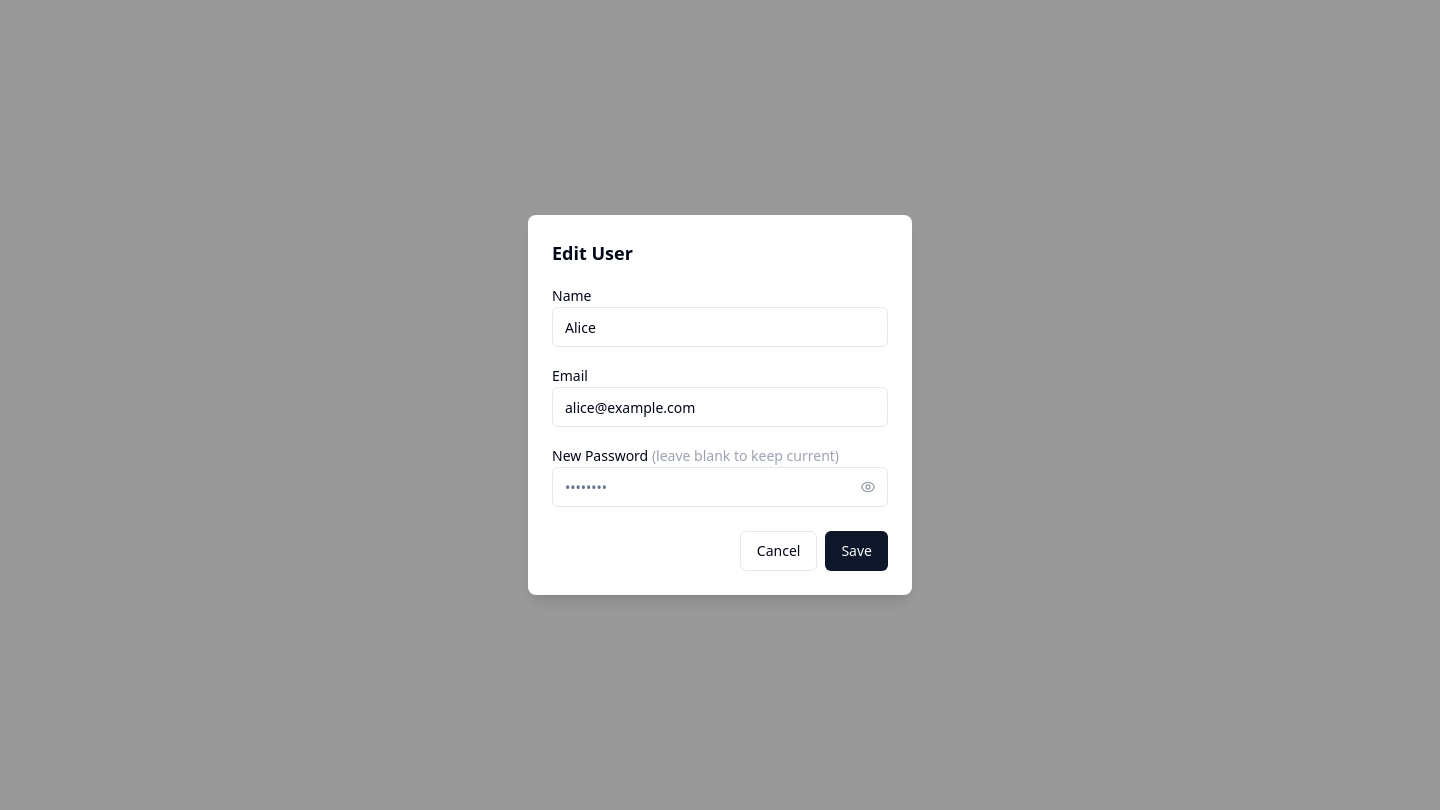
Test case: EditUserModal › validation › shows error when password is provided but less than 8 characters
In the password field labelled "New Password (leave blank to keep current)": (720, 487) [552,467,888,507], type "short"
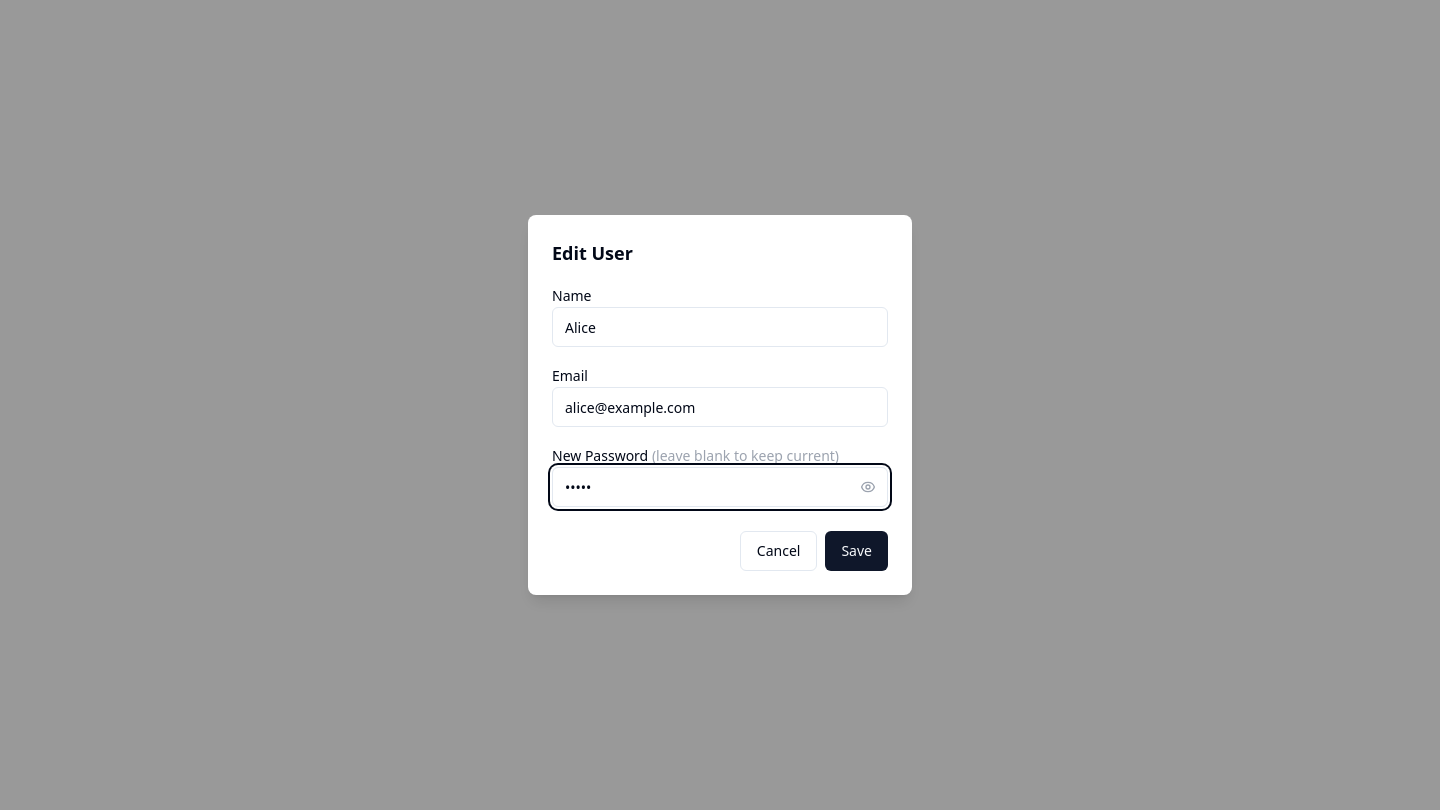
Click the button "Save": (857, 551) [825,531,888,571]
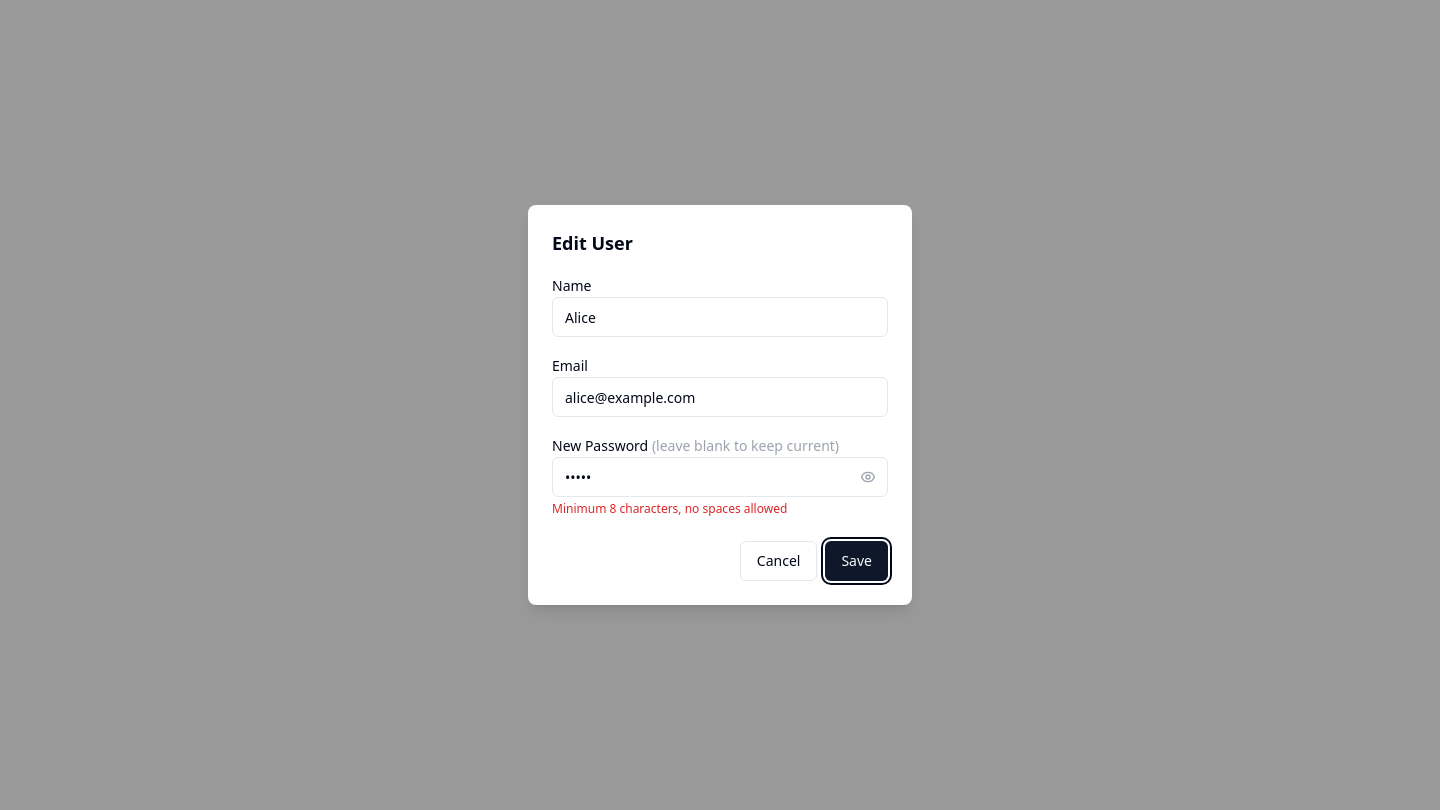
Result: the text "Minimum 8 characters, no spaces allowed" is shown at [552,500,787,517]
